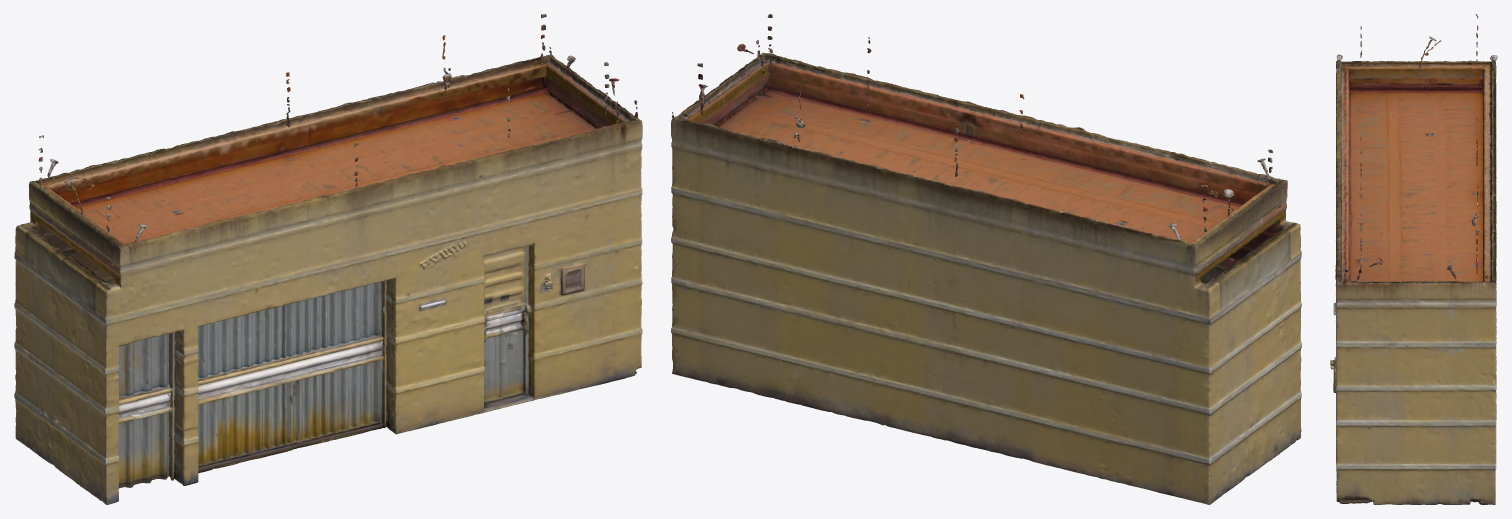
File: Rustic Facade brazilian house_DKB.glb
The picture shows the model from 3 angles, left to right: view 1: azimuth 30°, elevation 25°; view 2: azimuth 150°, elevation 25°; view 3: azimuth 270°, elevation 25°; orthographic projection. The views are drawn at different scales.
Bounding box in the file's own units: 1.9 × 1.05 × 0.5873.
Materials: 1 (1 with a texture image).
